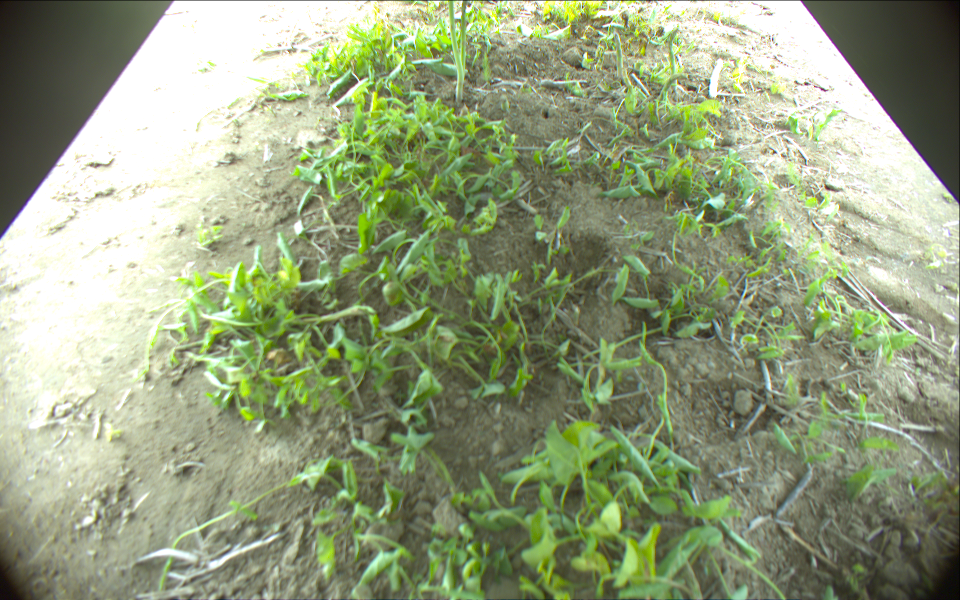aspa: (447, 1, 463, 101), (655, 72, 688, 101), (667, 29, 679, 95), (708, 59, 725, 98), (612, 33, 626, 78), (458, 1, 466, 75)
